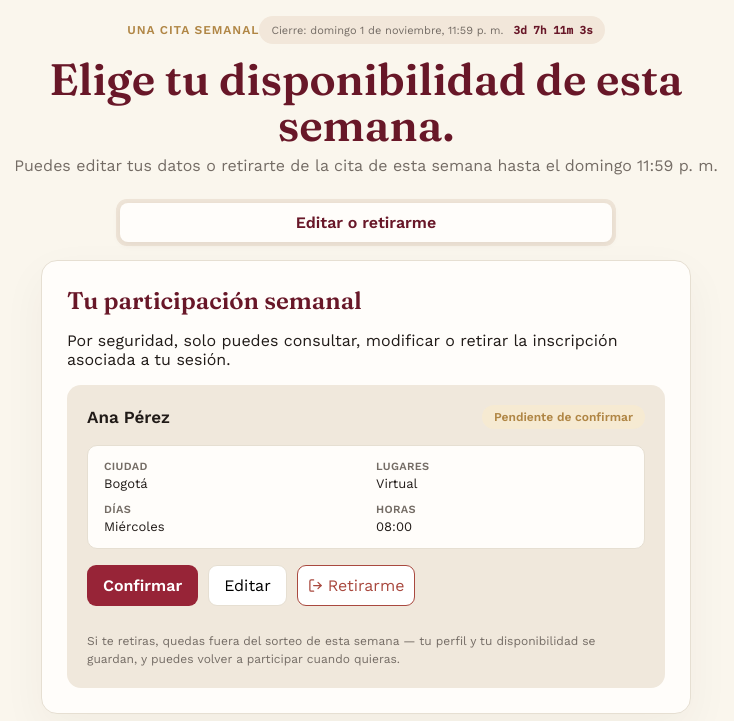
it: RegistrationPanel · editar o retirarme (usuario demo autenticado) › confirmar participación cambia el estado a 'Confirmado' y oculta el botón
Expected: the text "Ana Pérez" is shown, [87,407,170,427]
Click the button "Confirmar": (143, 586) [87,565,198,606]
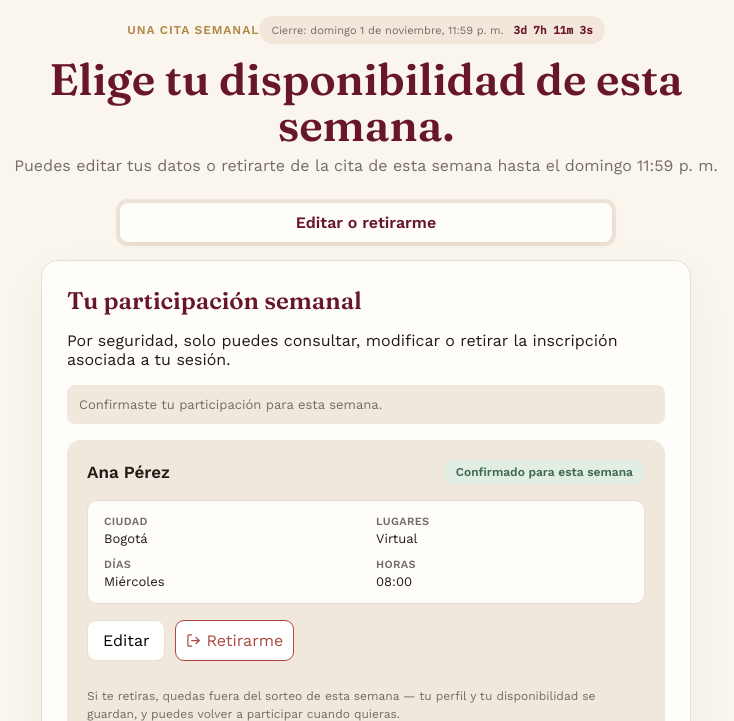
Expected: the text "Confirmado para esta semana" is shown, [444,460,645,484]
Expected: the text "confirmar" is gone
